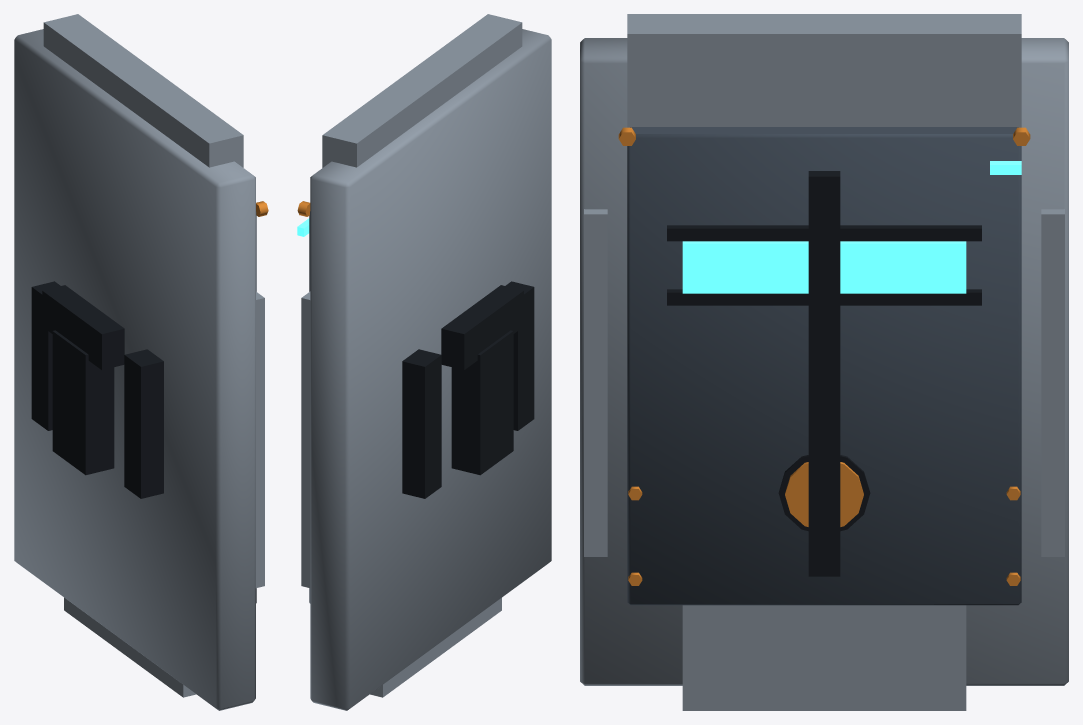
The model's file is escudo_guardian.glb.
3 views of the same model, side by side, from view 1: azimuth 30°, elevation 25°; view 2: azimuth 150°, elevation 25°; view 3: azimuth 270°, elevation 25° (orthographic). The views are drawn at different scales.
Visible parts, largest first — view 1: escudo_guardian; view 2: escudo_guardian; view 3: escudo_guardian.
Boxes of the visible parts, x1,y1,x2,y2 form: escudo_guardian: (14,14,268,710); escudo_guardian: (297,14,551,710); escudo_guardian: (580,14,1068,710).
Bounding box in the file's own units: 0.204 × 0.95 × 0.62.
